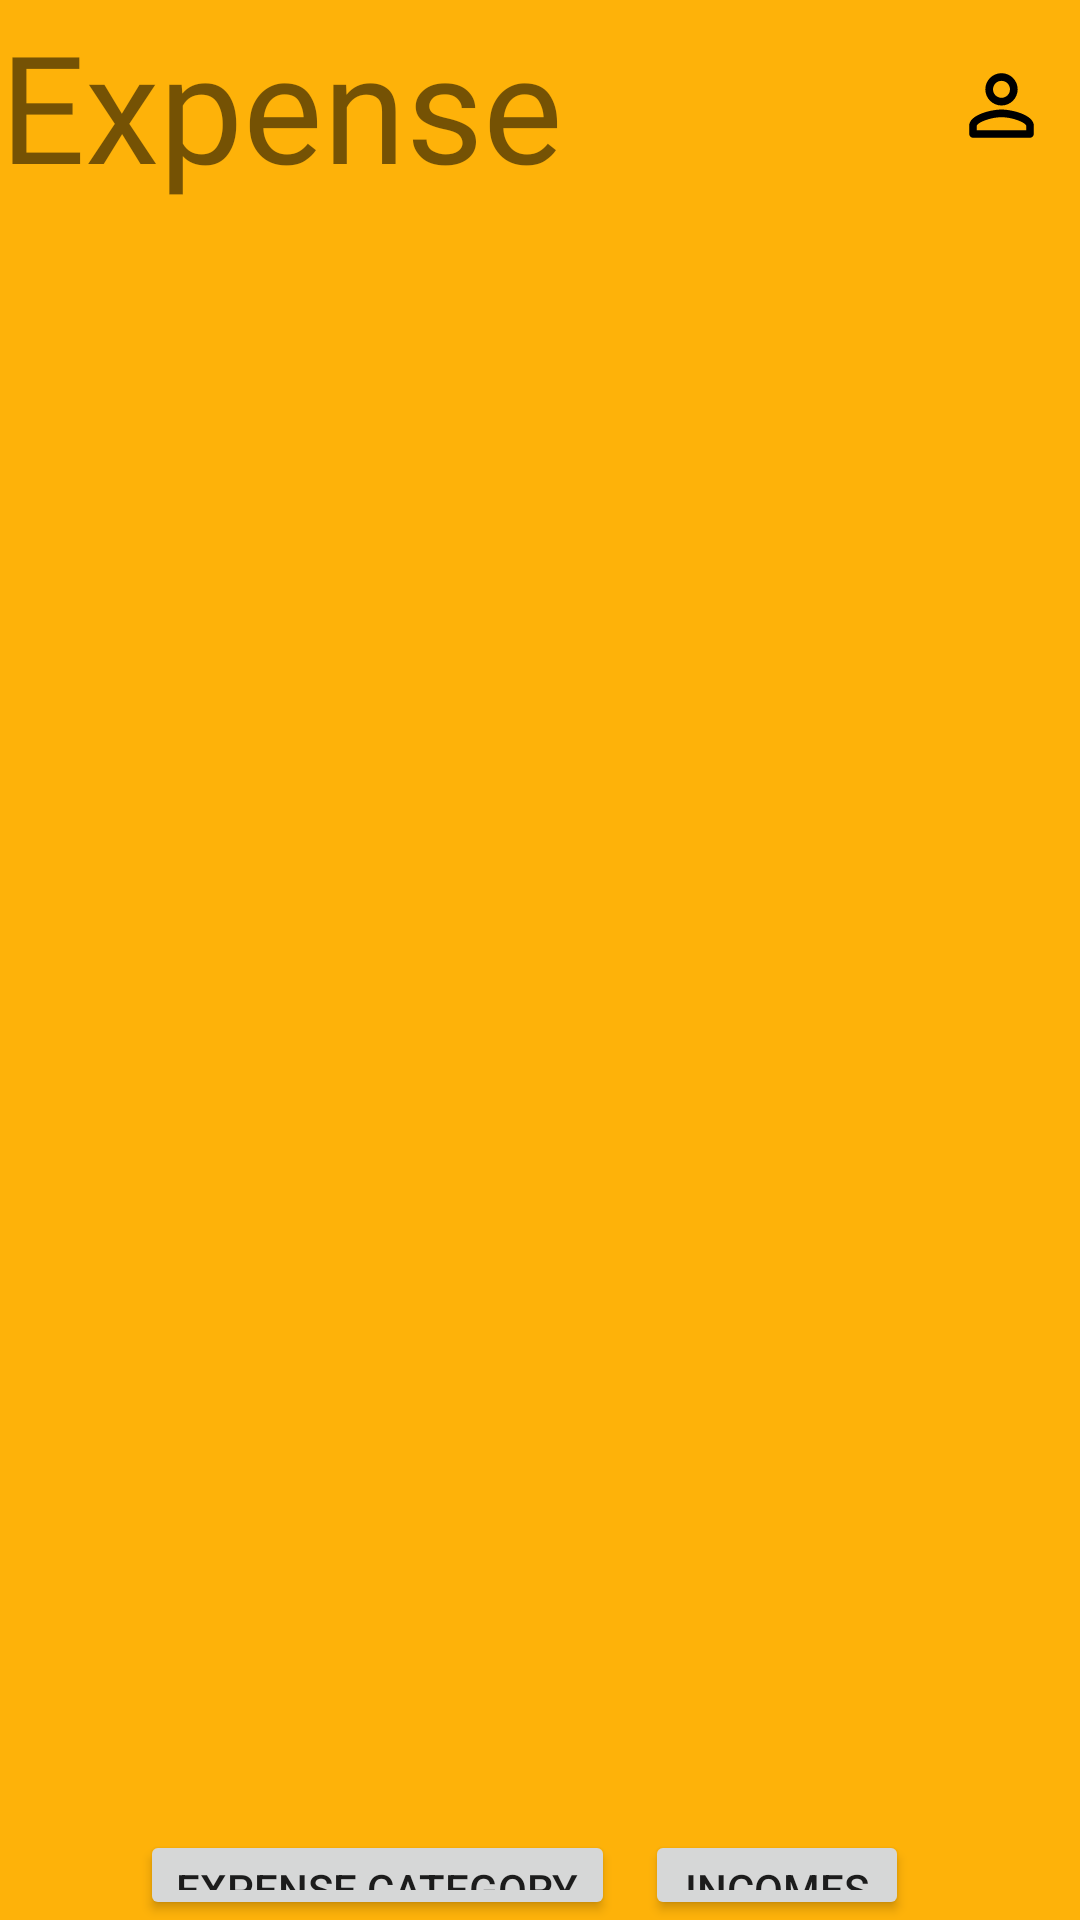

Where icons sit on this 1080px×1920px app screen, as (x1, y1, x2, y2):
person: (969, 73, 1034, 138)
